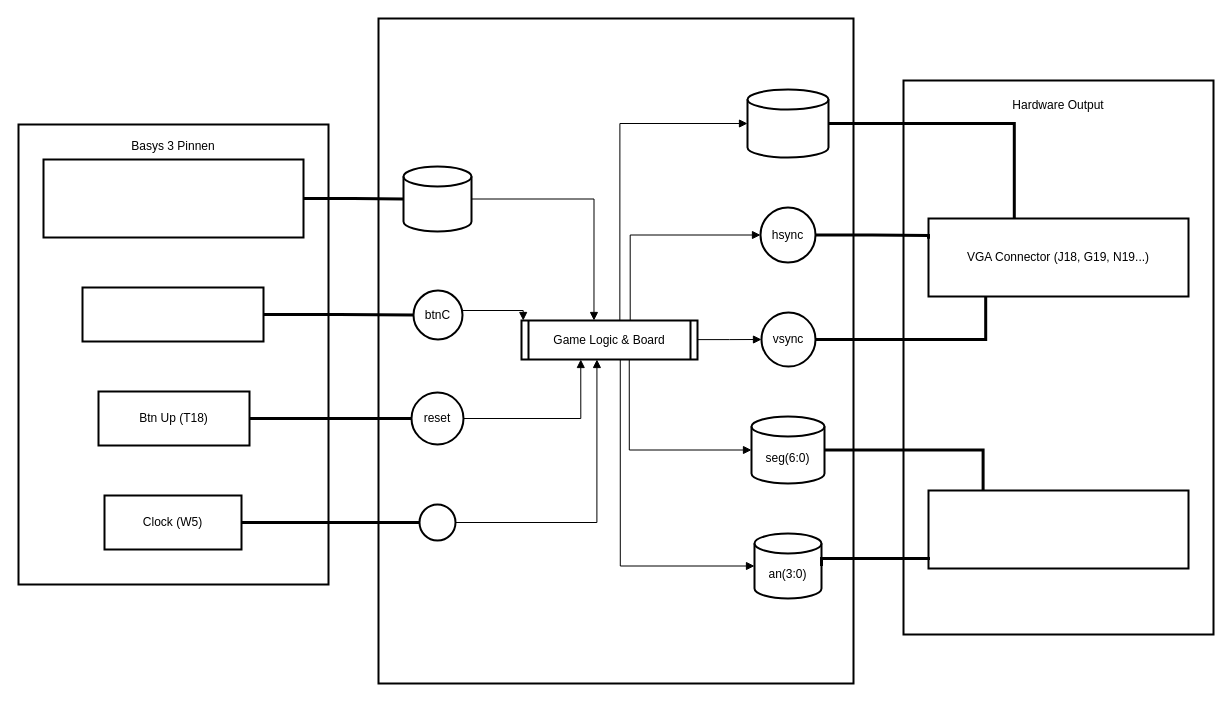
This 1231x701 diagram has some shape labels left out. The shapes that lost their labels are listed below. From the top down, each one's centre as x and y in pixels, then its label:
(x=787, y=123): rgb(11:0)
(x=173, y=198): Switches (V17, V16, W16, ...)
(x=437, y=198): sw(8:0)
(x=172, y=314): Btn Center (U18)
(x=437, y=522): clk
(x=1058, y=529): 7-Seg Display (W7, W6, U8...)
